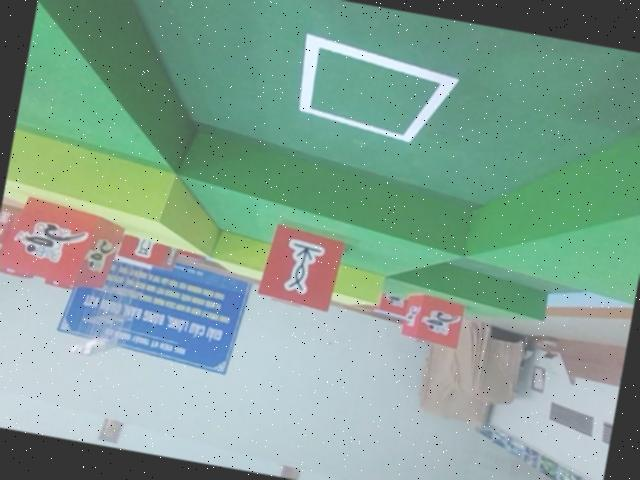R1: (2, 189, 133, 295), (396, 288, 469, 351)
R2 Real: (255, 217, 347, 316)
